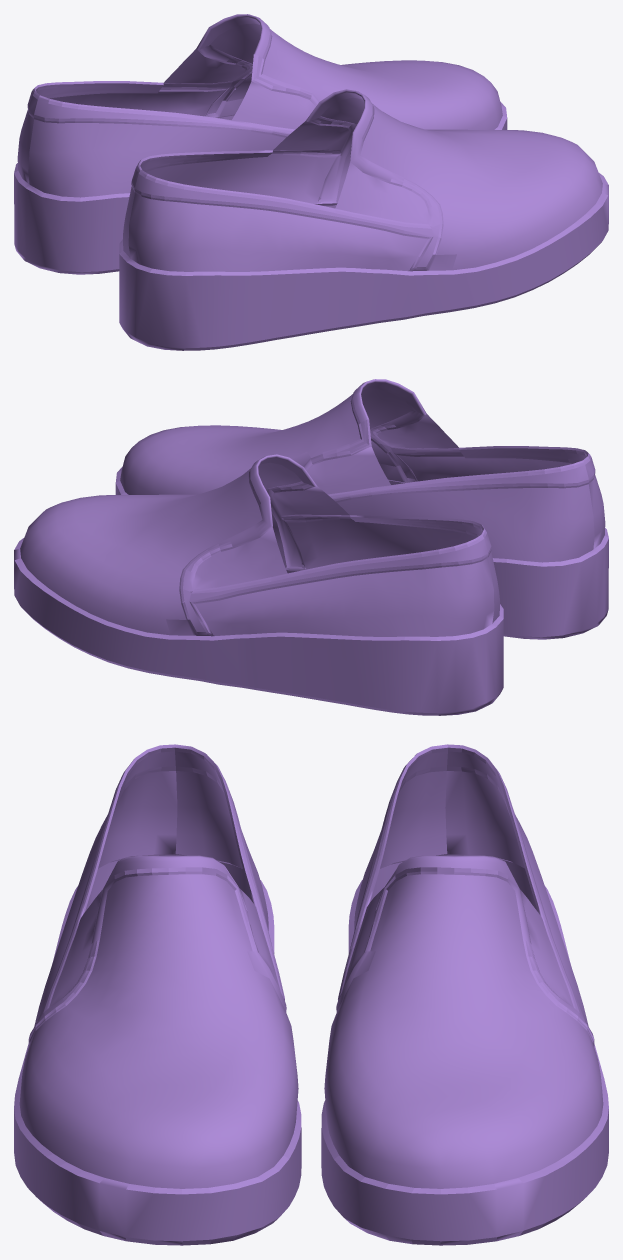
Rendered from shoeslight4.fbx.
3 views of the same model, one above another, from view 1: azimuth 30°, elevation 25°; view 2: azimuth 150°, elevation 25°; view 3: azimuth 270°, elevation 25° (orthographic). The views are drawn at different scales.
Parts seen in each view (by area): view 1: Right_loafer, Left_loafer; view 2: Left_loafer, Right_loafer; view 3: Left_loafer, Right_loafer.
Boxes of the visible parts, x1,y1,x2,y2 form: Right_loafer: (119,89,608,350); Left_loafer: (14,14,507,274); Left_loafer: (14,454,503,715); Right_loafer: (115,379,608,639); Left_loafer: (321,744,608,1245); Right_loafer: (14,744,301,1245).
Size of the model in its own units: 26.87 by 10.33 by 21.93.
